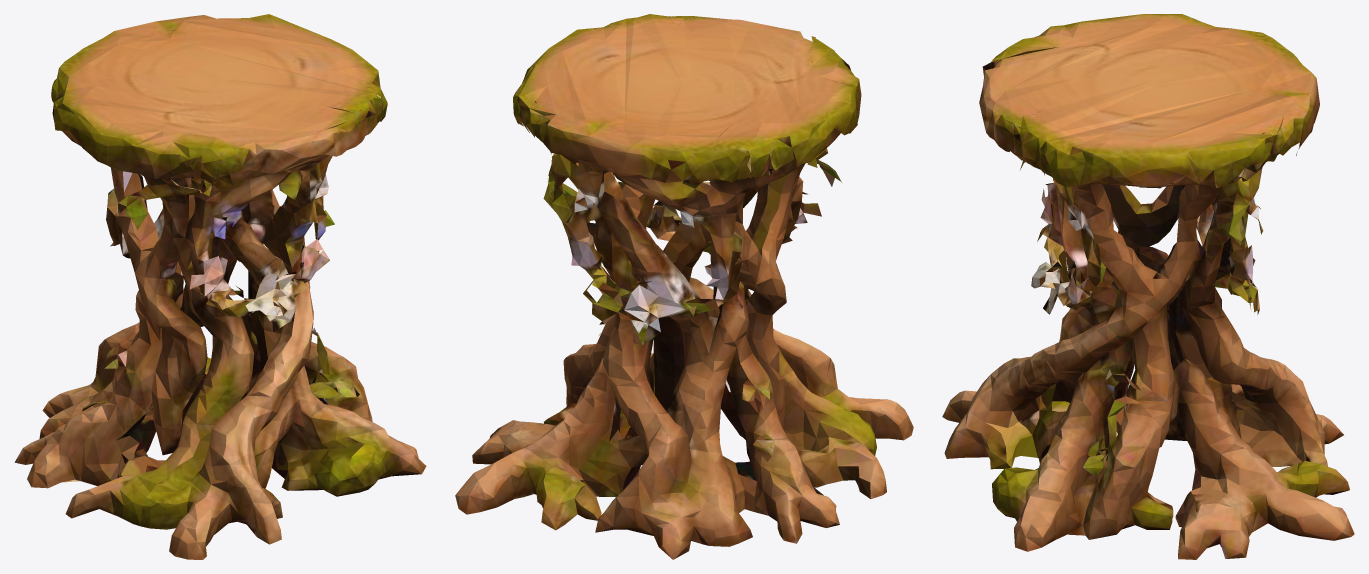
Rendered from fairy_altar_1117.glb.
3 renders of one model, left to right at view 1: azimuth 30°, elevation 25°; view 2: azimuth 150°, elevation 25°; view 3: azimuth 270°, elevation 25°, orthographic. The views are drawn at different scales.
Parts seen in each view (by area): view 1: geometry_0; view 2: geometry_0; view 3: geometry_0.
Boxes of the visible parts, bbox=[...] form: geometry_0: bbox=[14, 14, 426, 559]; geometry_0: bbox=[455, 14, 913, 559]; geometry_0: bbox=[942, 14, 1354, 559].
Size of the model in its own units: 0.9365 by 1 by 0.9444.
1 material, 1 textured.
